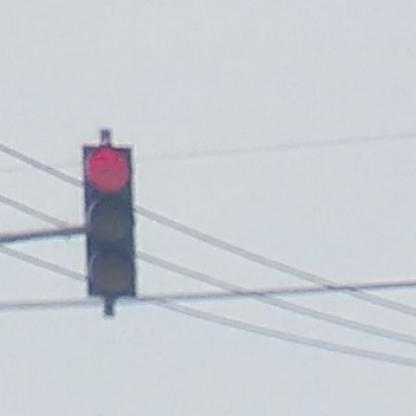red: (84, 146, 136, 297)
